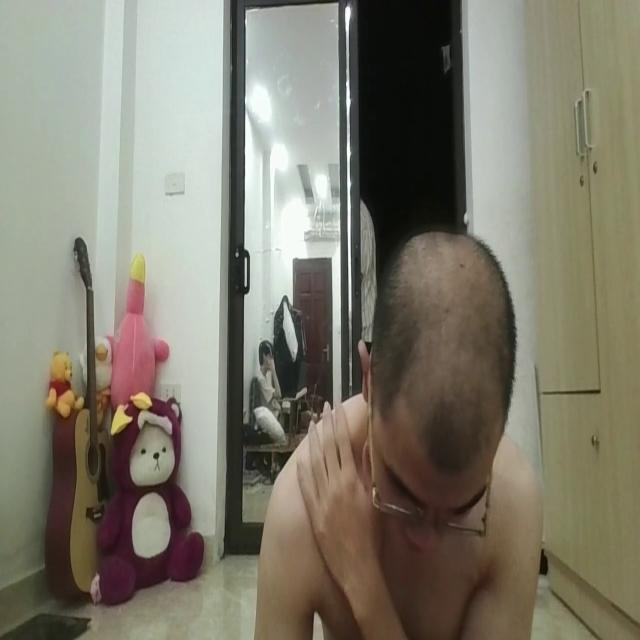extra_person: (241, 326, 305, 426), (358, 162, 386, 342)
student: (246, 224, 560, 640)
